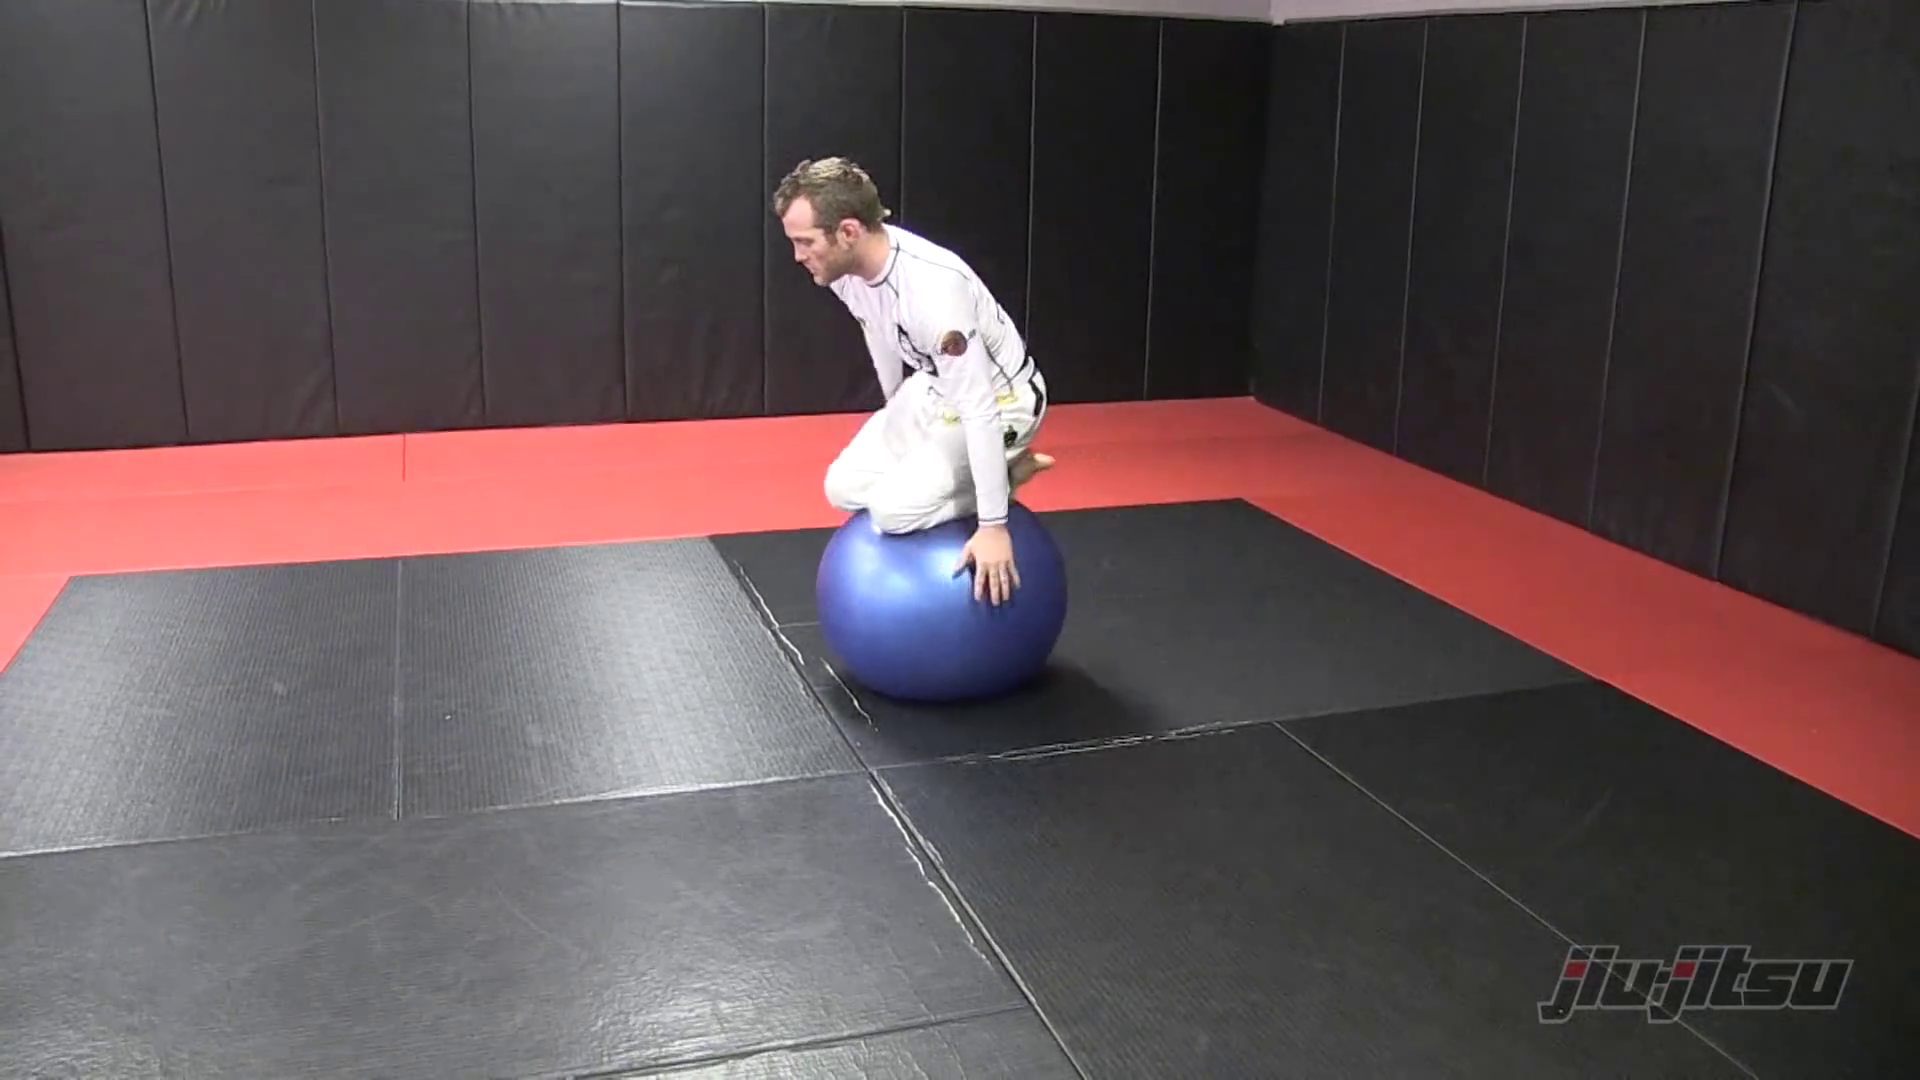yogaball: (778, 497, 1081, 713)
